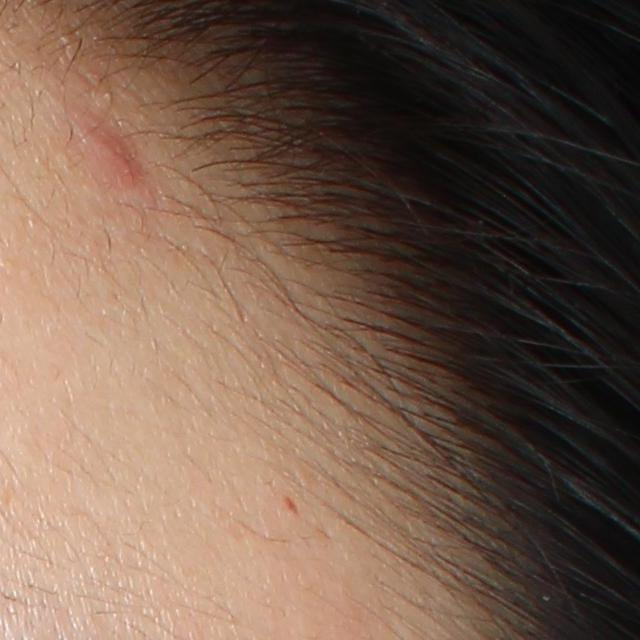papule: (88, 132, 142, 190)
